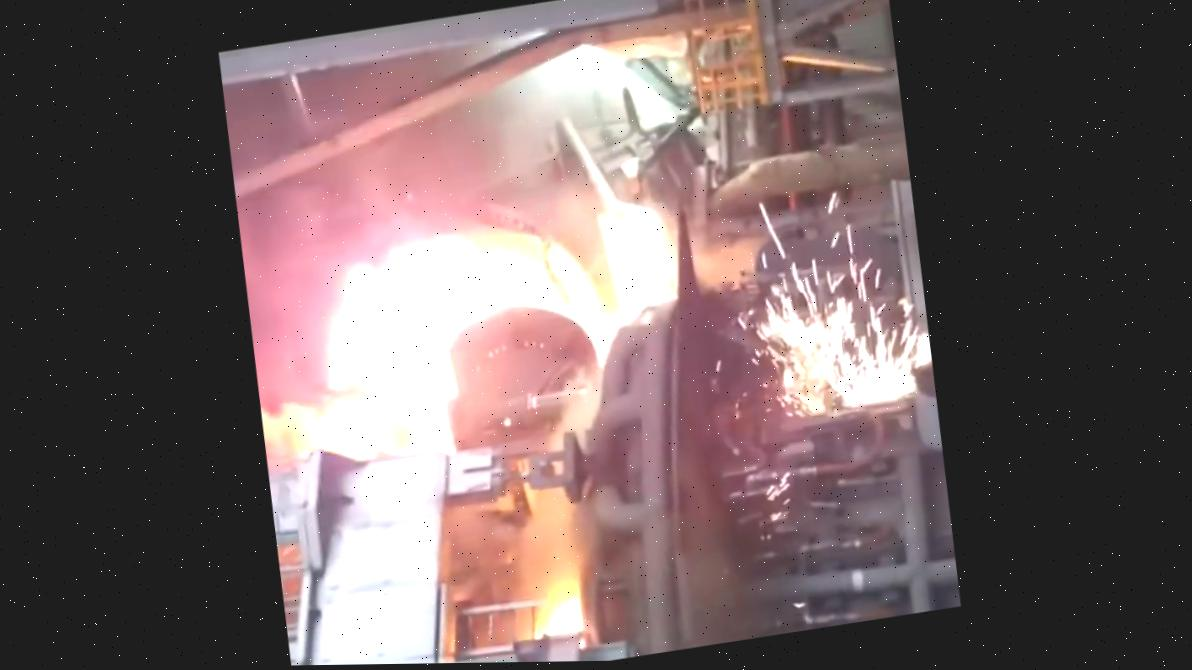fire: (273, 82, 929, 603)
